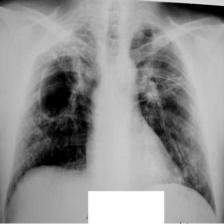tuberculosis: (1, 11, 224, 217)
